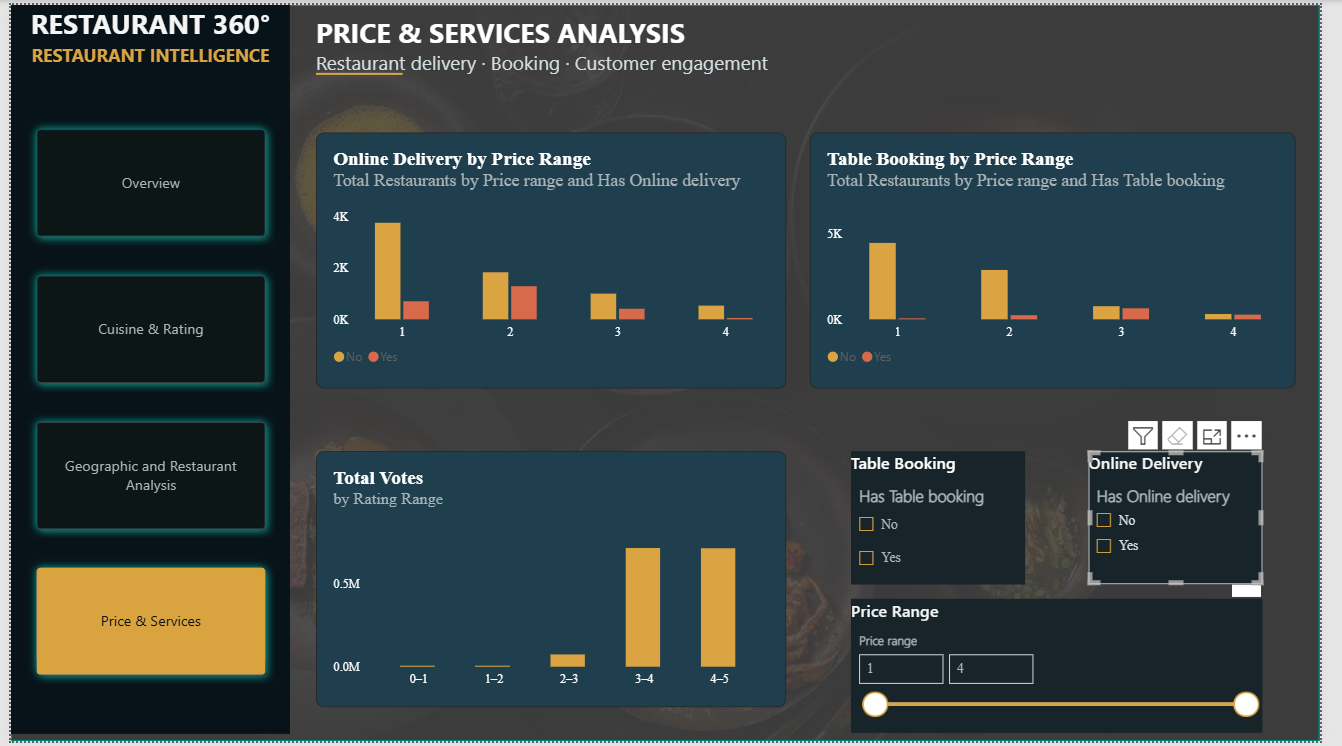

What the dashboard file says about the page in this screenshot:
{"tool":"powerbi","page":{"name":"Price & Services","canvas":[1280,720],"ordinal":3},"visuals":[{"type":"shape","box":[0,0,1280,720],"z":0},{"type":"clusteredColumnChart","title":"Online Delivery by Price Range","fields":{"Category":["Restaurantdata.Price range"],"Series":["Restaurantdata.Has Online delivery"],"Y":["Restaurantdata.Total Restaurants"]},"box":[298.8,125,460,250],"z":1000},{"type":"clusteredColumnChart","title":"Table Booking by Price Range","fields":{"Category":["Restaurantdata.Price range"],"Series":["Restaurantdata.Has Table booking"],"Y":["Restaurantdata.Total Restaurants"]},"box":[781.2,125,475,250],"z":2000},{"type":"clusteredColumnChart","fields":{"Category":["Restaurantdata.Rating Range"],"Y":["Restaurantdata.Total Votes"]},"box":[298.8,436.2,460,250],"z":3000},{"type":"slicer","title":"Table Booking","fields":{"Values":["Restaurantdata.Has Table booking"]},"box":[821.2,436.2,170,130],"z":4000},{"type":"shape","title":"RESTAURANT 360°","box":[0,0,272.7,712.9],"z":5000},{"type":"pageNavigator","box":[15.9,112.5,242.9,555.7],"z":6000},{"type":"textbox","box":[298.8,8.8,547.5,65],"z":7000},{"type":"shape","box":[298.8,61.2,85,12.5],"z":8000},{"type":"slicer","title":"Online Delivery","fields":{"Values":["Restaurantdata.Has Online delivery"]},"box":[1053.8,436.2,170,130],"z":9000},{"type":"slicer","title":"Price Range","fields":{"Values":["Restaurantdata.Price range"]},"box":[821.2,581.2,402.5,131.2],"z":10000}]}

Visuals, with their boxes in screenshot pixels (x1, y1, x2, y2), scaled from the page's 1280x720 canvas onto the 1342x746 screenshot:
shape: 0,0,1341,745
"Online Delivery by Price Range" clusteredColumnChart: 313,130,796,389
"Table Booking by Price Range" clusteredColumnChart: 819,130,1317,389
clusteredColumnChart - Restaurantdata.Rating Range x Restaurantdata.Total Votes: 313,452,796,711
"Table Booking" slicer: 861,452,1039,587
"RESTAURANT 360°" shape: 0,0,286,739
pageNavigator: 17,117,271,692
textbox: 313,9,887,76
shape: 313,63,402,76
"Online Delivery" slicer: 1105,452,1283,587
"Price Range" slicer: 861,602,1283,738
